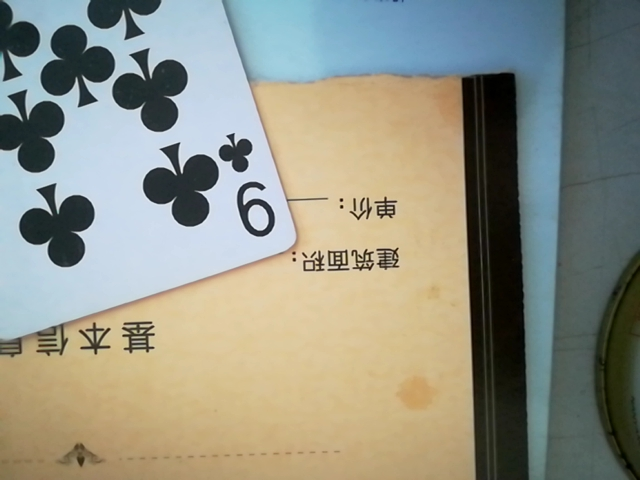mh 9: (0, 0, 302, 363)
